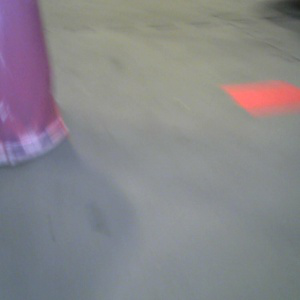right: (1, 1, 75, 171)
